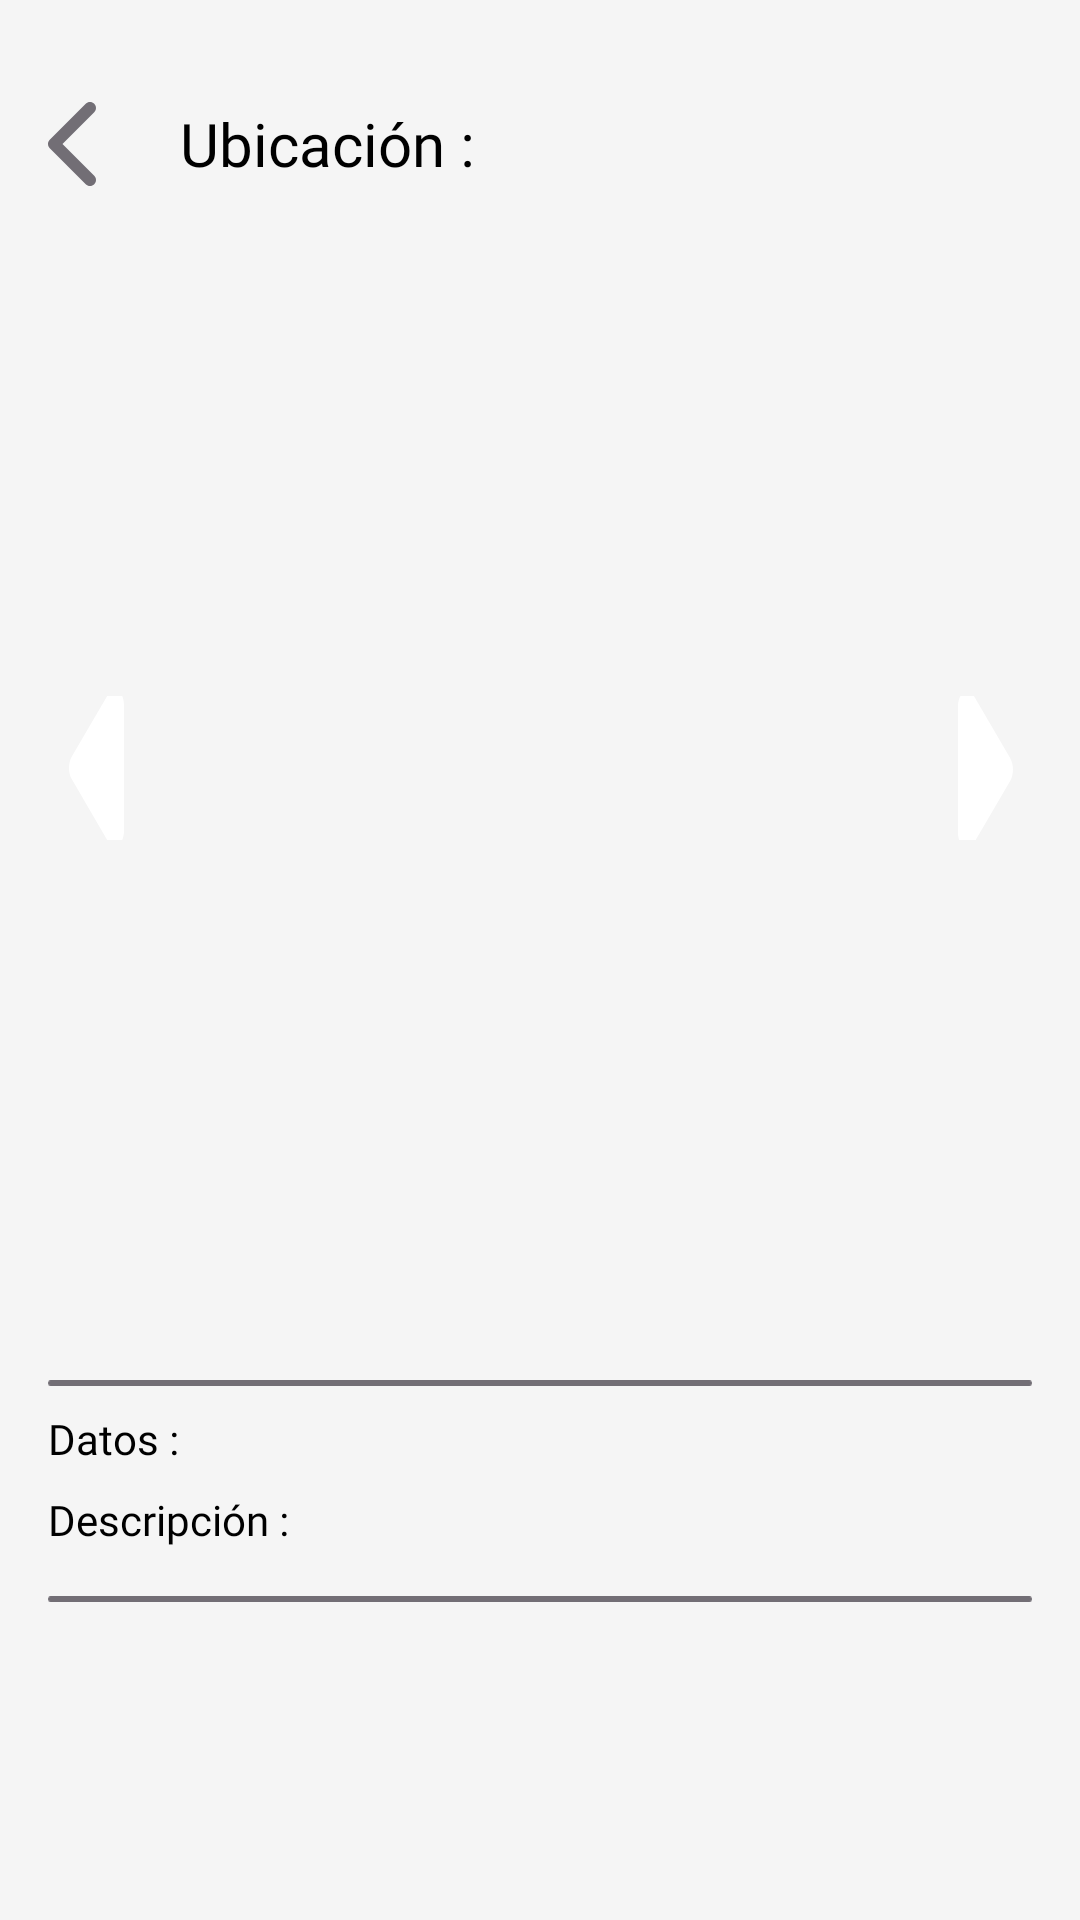

Icons on this 1080 × 1920 Android screen, each with its box as (x1, y1, x2, y2):
flecha atras: (48, 102, 96, 186)
